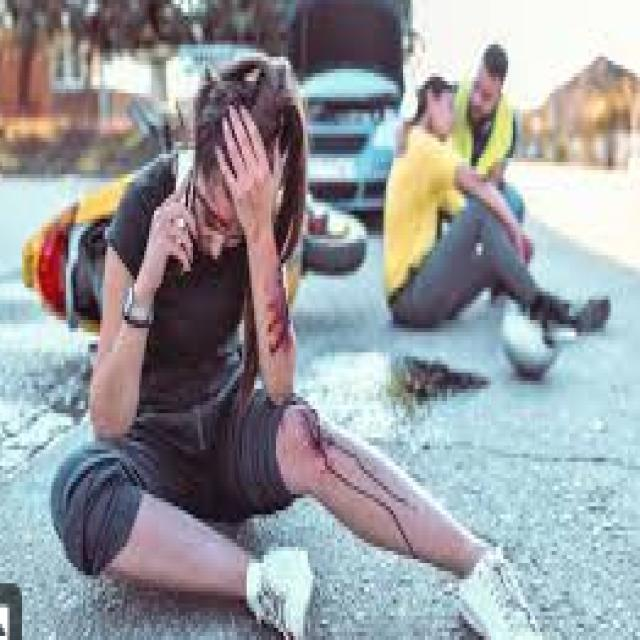injury: (180, 54, 326, 314), (296, 406, 417, 553), (467, 45, 509, 135), (415, 71, 455, 142), (266, 279, 295, 352)
